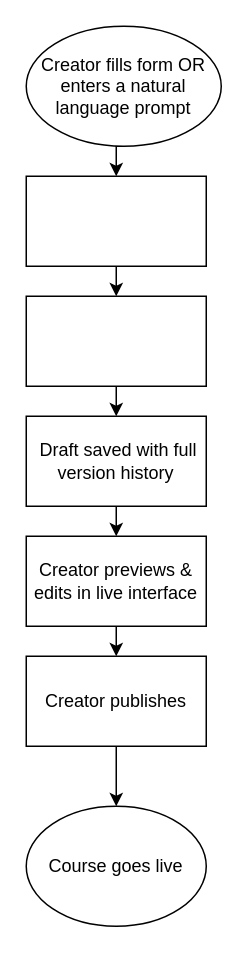
This 248x953 diagram has some shape labels left out. The box of each missing label's shape, as (x1, y1, x2, y2) in pixels:
AI generates full course: (25, 175, 206, 266)
YouTube API fetches relevant videos: (25, 295, 206, 386)
